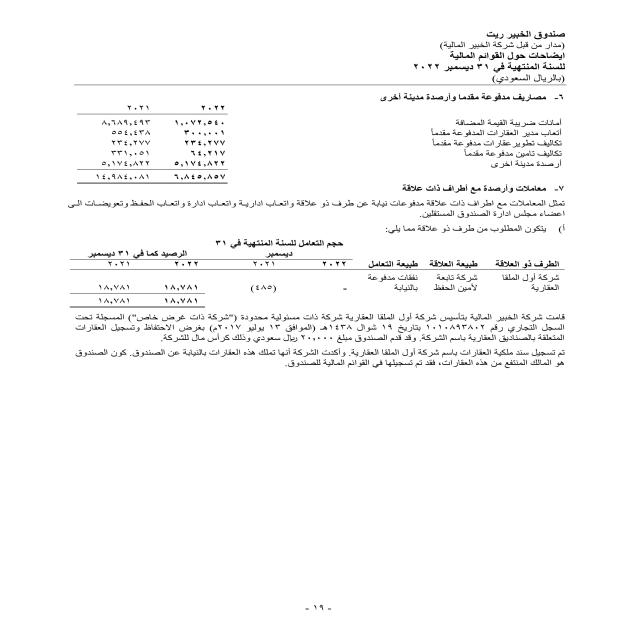notes: (439, 50, 571, 63)
table: (48, 236, 569, 314), (43, 98, 238, 191)
